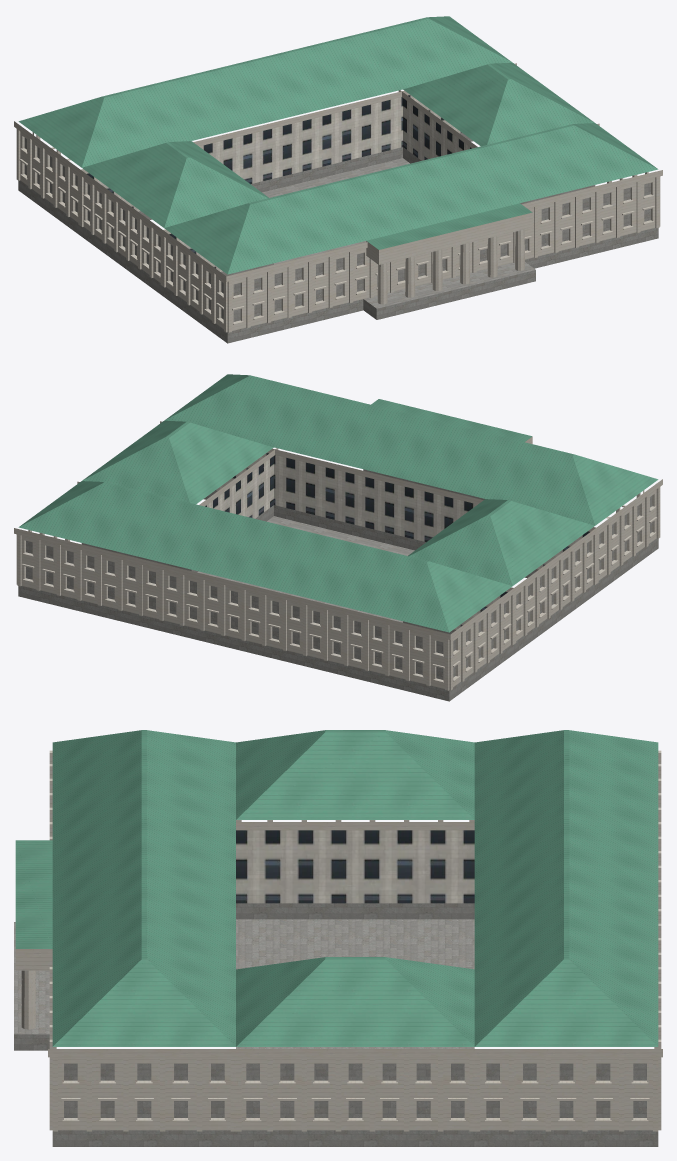
File: nas_building.glb
The picture shows the model from 3 angles, top to bottom: view 1: azimuth 30°, elevation 25°; view 2: azimuth 150°, elevation 25°; view 3: azimuth 270°, elevation 25°; orthographic projection. The views are drawn at different scales.
Parts seen in each view (by area): view 1: nas_building; view 2: nas_building; view 3: nas_building.
Part boxes in pixels (x1,y1,x2,y2): nas_building: [14, 16, 662, 343]; nas_building: [14, 374, 662, 701]; nas_building: [14, 730, 662, 1146].
Size of the model in its own units: 79.5 by 18 by 70.7.
Materials: 4 (4 with a texture image).
